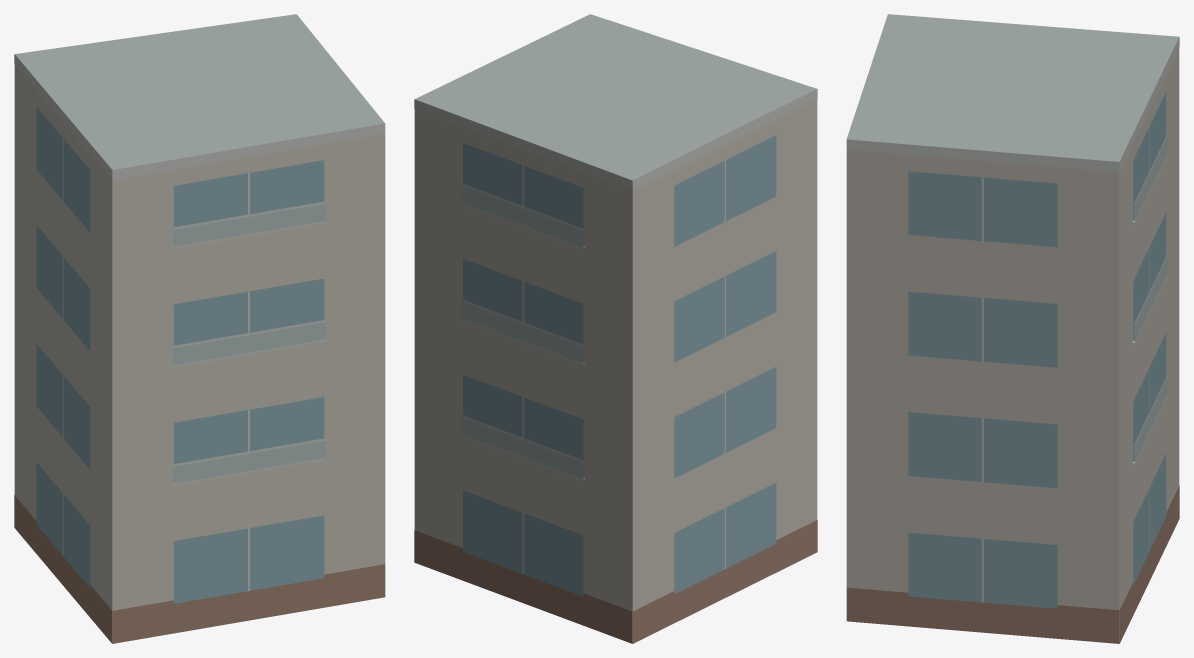
Rendered from survey-upis-32460080.glb.
3 renders of one model, left to right at view 1: azimuth 30°, elevation 25°; view 2: azimuth 150°, elevation 25°; view 3: azimuth 270°, elevation 25°, orthographic. The views are drawn at different scales.
Visible parts, largest first — view 1: survey-upis-32460080.tmp; view 2: survey-upis-32460080.tmp; view 3: survey-upis-32460080.tmp.
Boxes of the visible parts, box(x1,y1,x2,y2) form: survey-upis-32460080.tmp: box(14, 14, 385, 643); survey-upis-32460080.tmp: box(414, 14, 817, 643); survey-upis-32460080.tmp: box(846, 14, 1179, 643).
Bounding box in the file's own units: 7.45 × 11.3 × 7.09.
